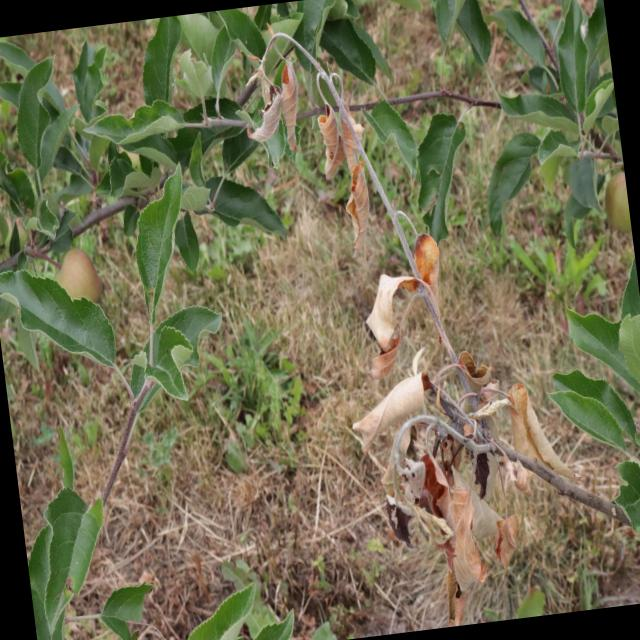-FireBlight-: (236, 36, 570, 625)
